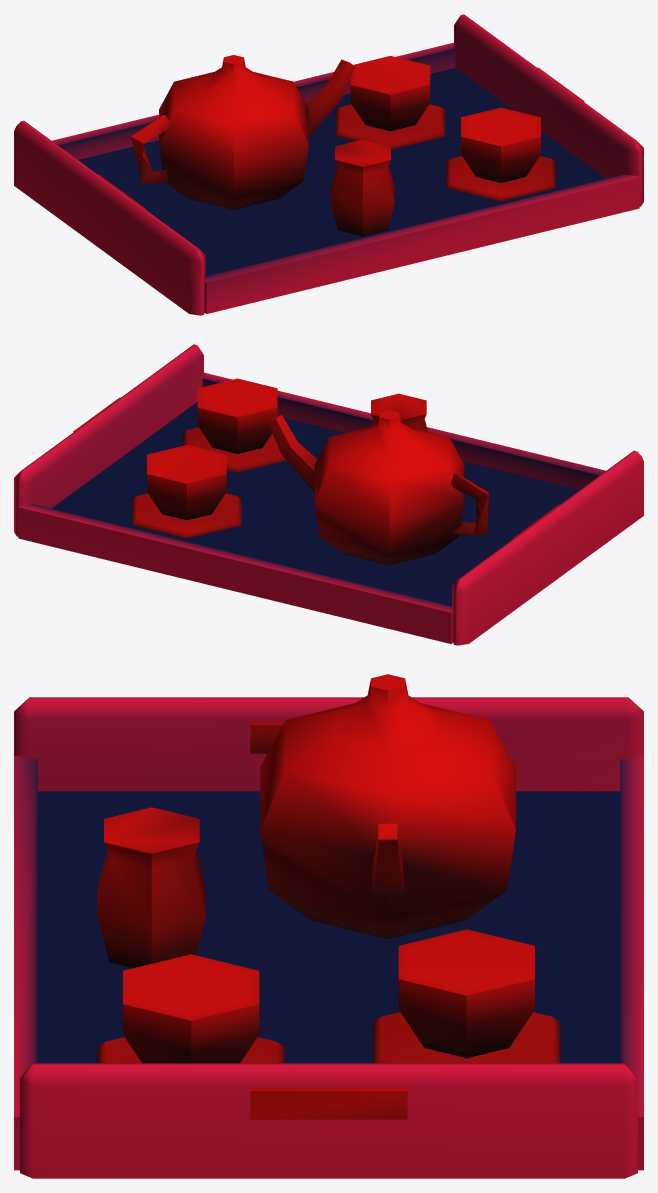
File: CI_Living_TeaSet_Tray.glb
3 renders of one model, top to bottom at view 1: azimuth 30°, elevation 25°; view 2: azimuth 150°, elevation 25°; view 3: azimuth 270°, elevation 25°, orthographic. The views are drawn at different scales.
Parts seen in each view (by area): view 1: CI_Living_TeaSet_Tray; view 2: CI_Living_TeaSet_Tray; view 3: CI_Living_TeaSet_Tray.
Part boxes in pixels (x1,y1,x2,y2): CI_Living_TeaSet_Tray: [14, 14, 643, 315]; CI_Living_TeaSet_Tray: [14, 344, 643, 645]; CI_Living_TeaSet_Tray: [14, 674, 643, 1178].
Size of the model in its own units: 0.461 by 0.135 by 0.32.
